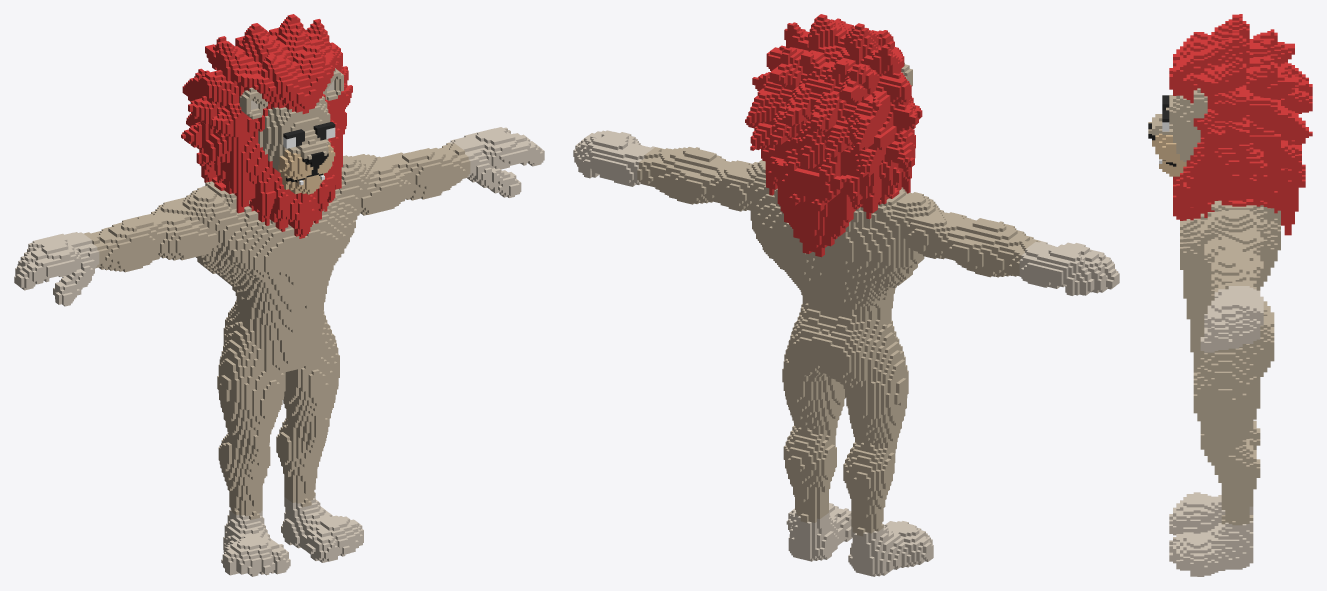
The picture shows the model from 3 angles, left to right: view 1: azimuth 30°, elevation 25°; view 2: azimuth 150°, elevation 25°; view 3: azimuth 270°, elevation 25°; orthographic projection. The views are drawn at different scales.
Visible parts, largest first — view 1: standard; view 2: standard; view 3: standard.
Part boxes in pixels (x1,y1,x2,y2): standard: (14, 14, 544, 576); standard: (573, 14, 1119, 576); standard: (1148, 14, 1312, 576).
Size of the model in its own units: 17.2 by 16.5 by 4.7.
4 materials, 4 textured.
